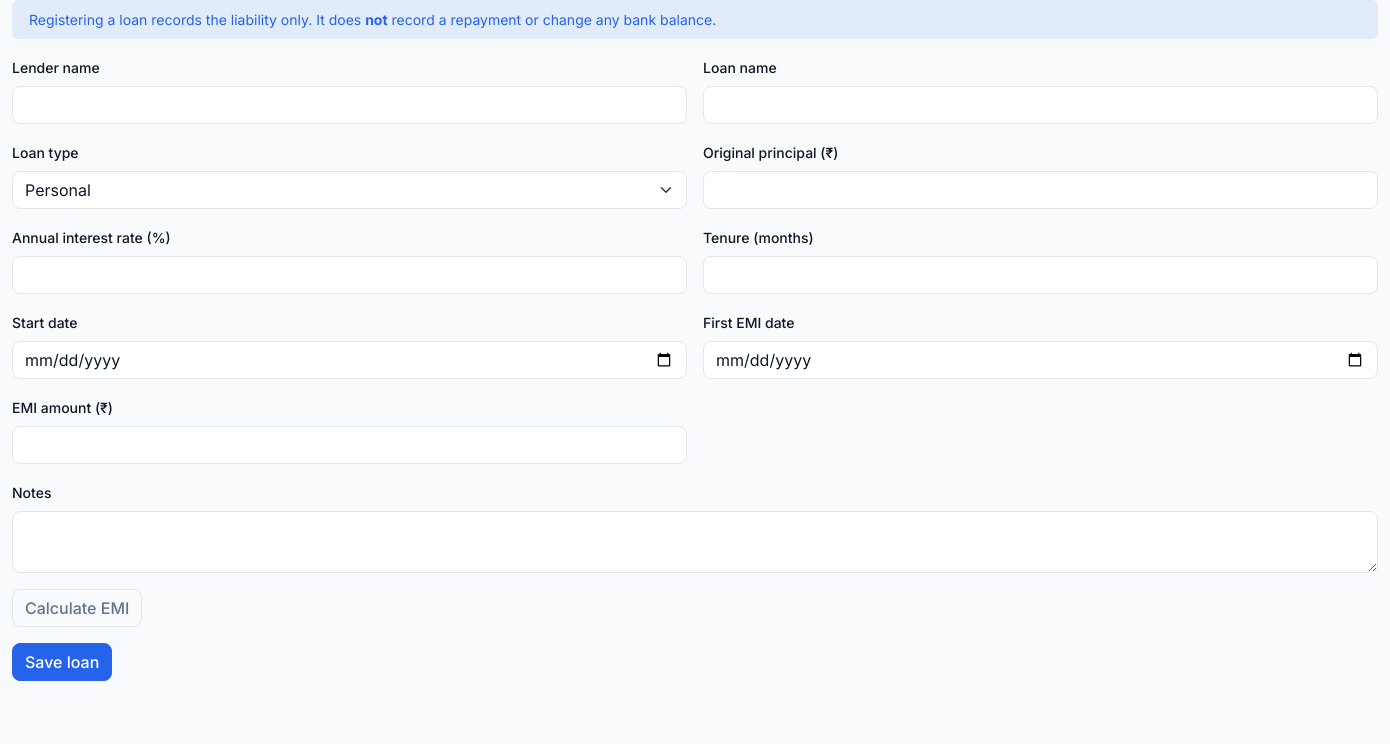
Test: AddLoanForm › validates required fields
The width and height of the screenshot is (1390, 744).
Click the button "Save loan". click: (62, 662)
box: [12,643,112,681]
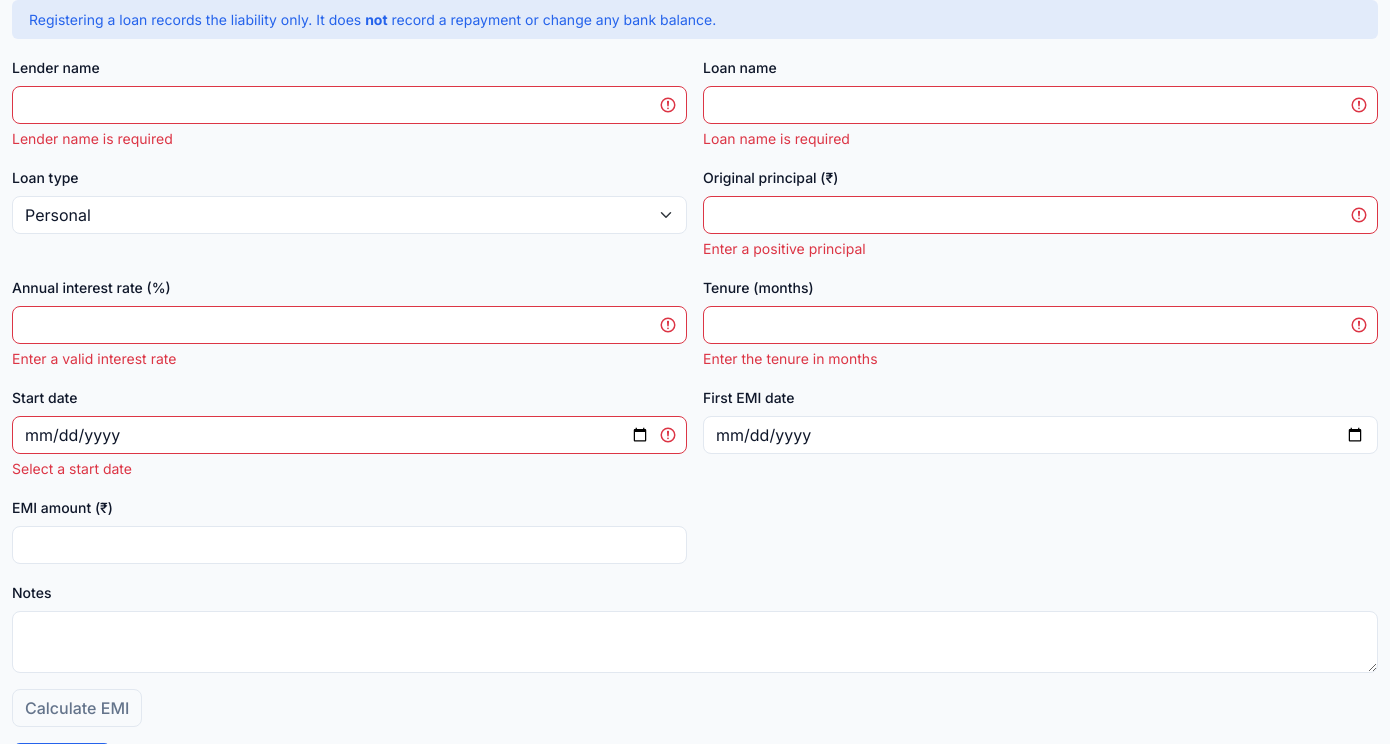
Result: the text "Lender name is required" is shown at [12,130,173,147]
